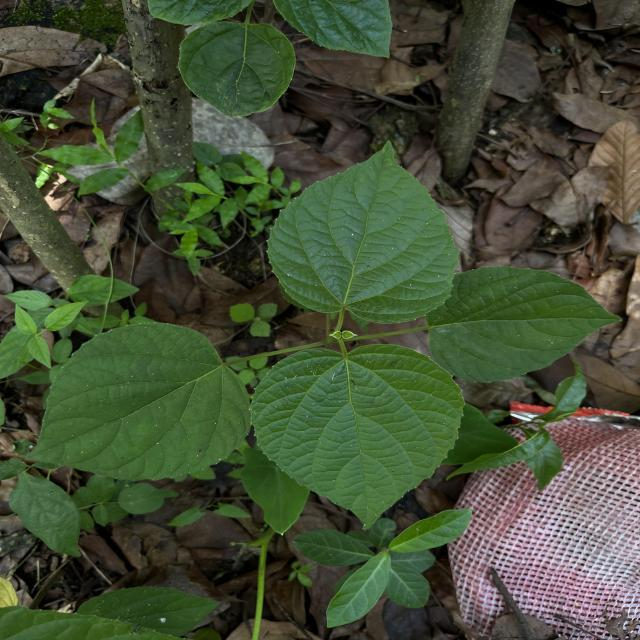Clerodendrum infortunatum: (248, 342, 468, 531), (22, 320, 254, 483), (264, 140, 462, 326), (423, 264, 625, 387)
